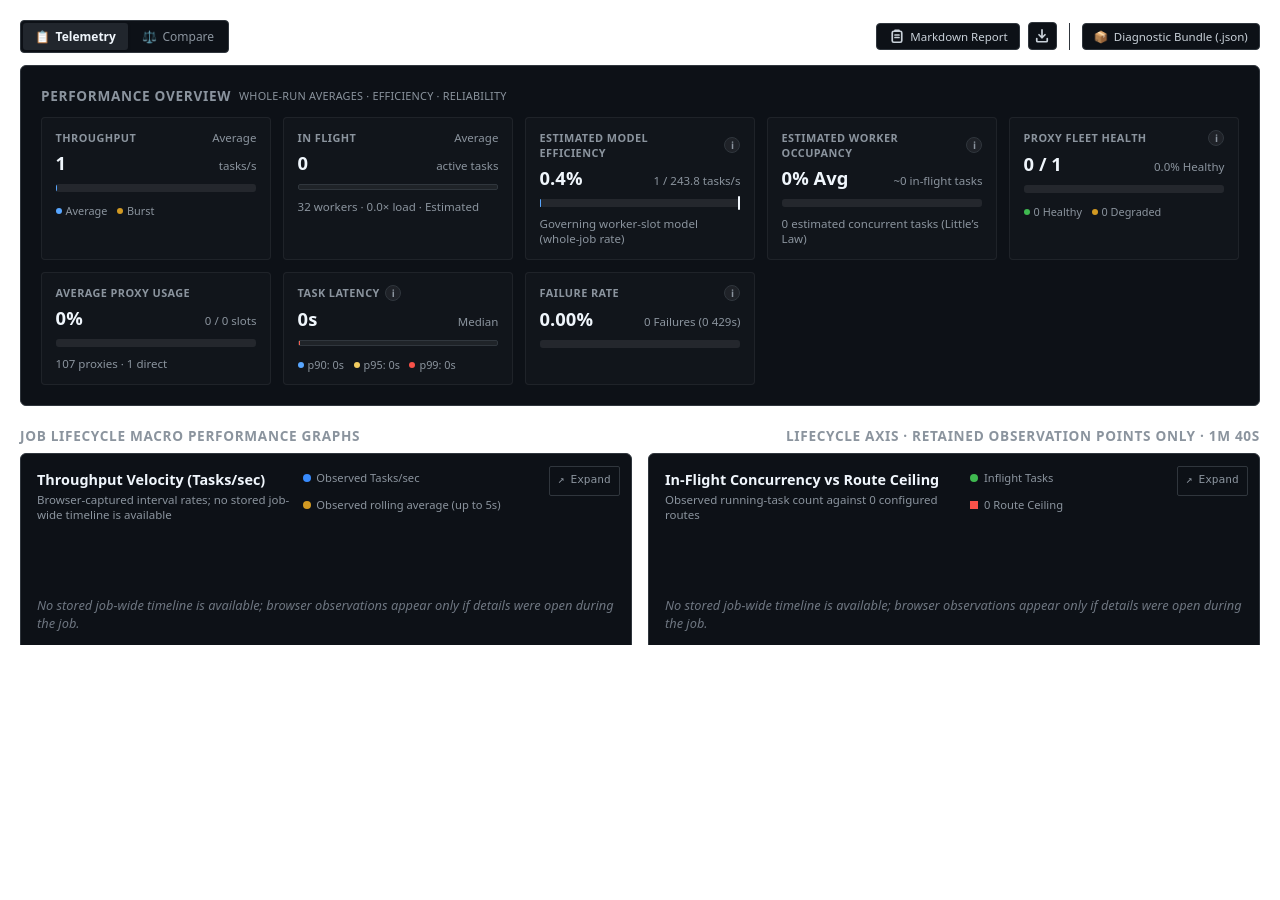
it: JobDiagnosticsReport baseline selection › automatically compares against a comparable run from the same site
Click the button "⚖️ Compare".
click(178, 36)  # box [130,23,226,50]
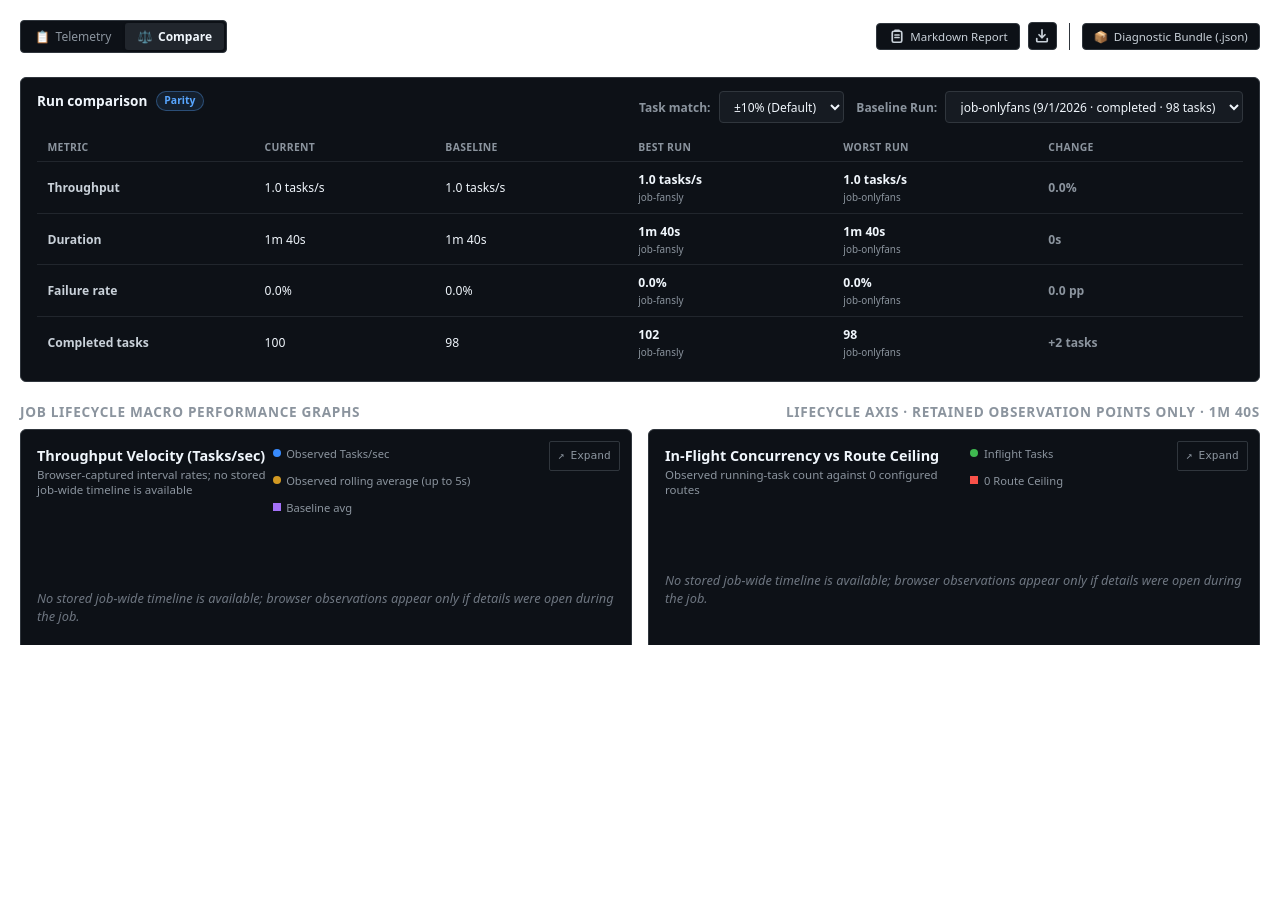
Now the dropdown with test id "baseline-select" shows "job-onlyfans (9/1/2026 · completed · 98 tasks)", box [945,91,1243,123]
